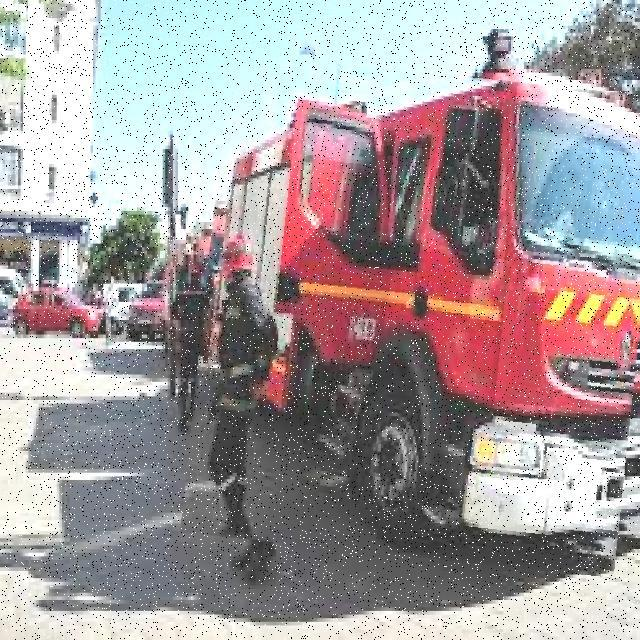pompier: (192, 62, 640, 566)
